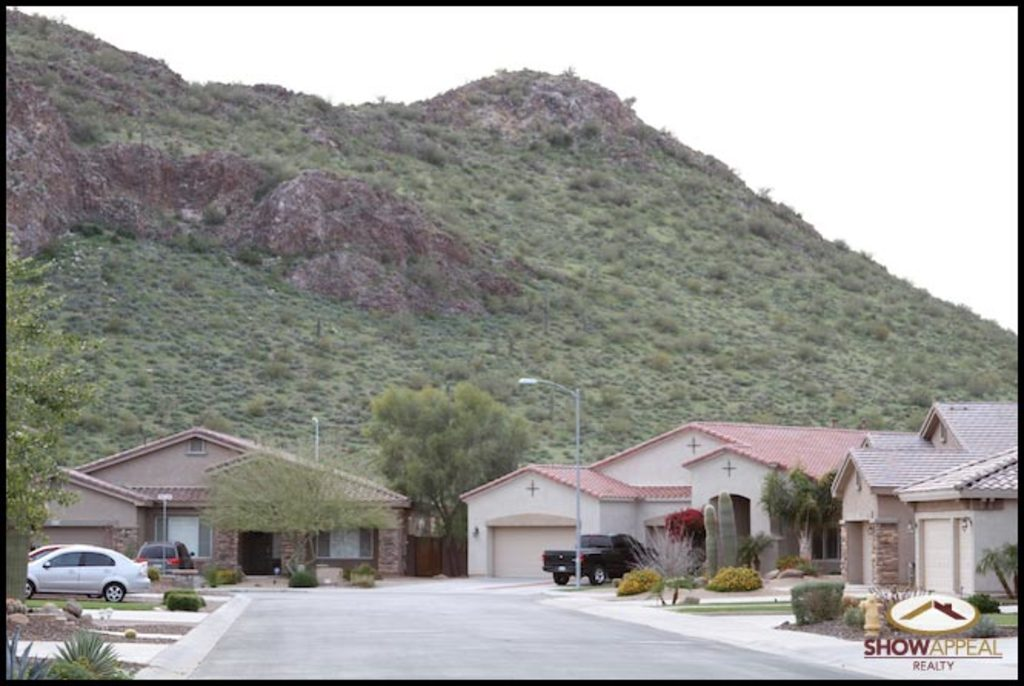mobil: (22, 540, 152, 605), (535, 531, 647, 584)
